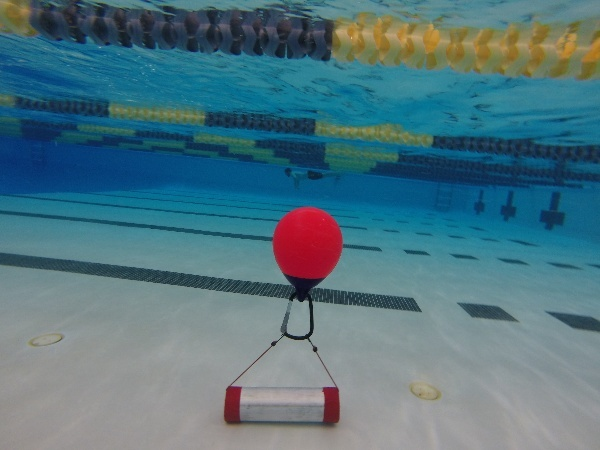buoy_red: (267, 206, 345, 302)
